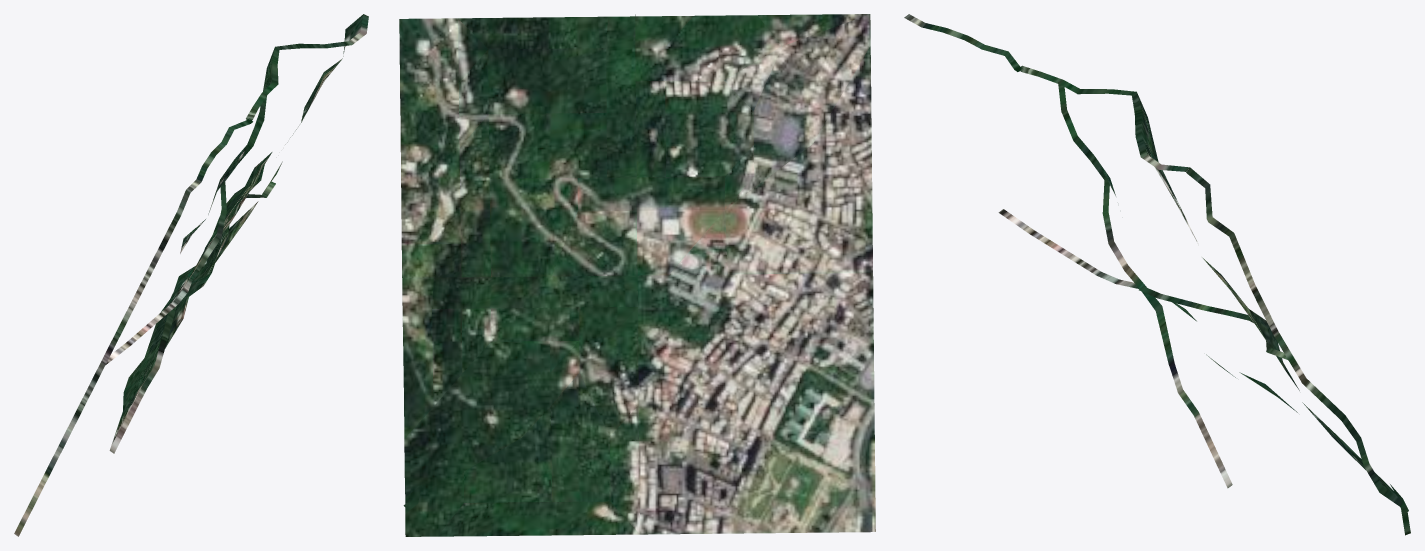
The picture shows the model from 3 angles, left to right: view 1: azimuth 30°, elevation 25°; view 2: azimuth 150°, elevation 25°; view 3: azimuth 270°, elevation 25°; orthographic projection. The views are drawn at different scales.
Size of the model in its own units: 1185 by 1181 by 1160.
1 material, 1 textured.
